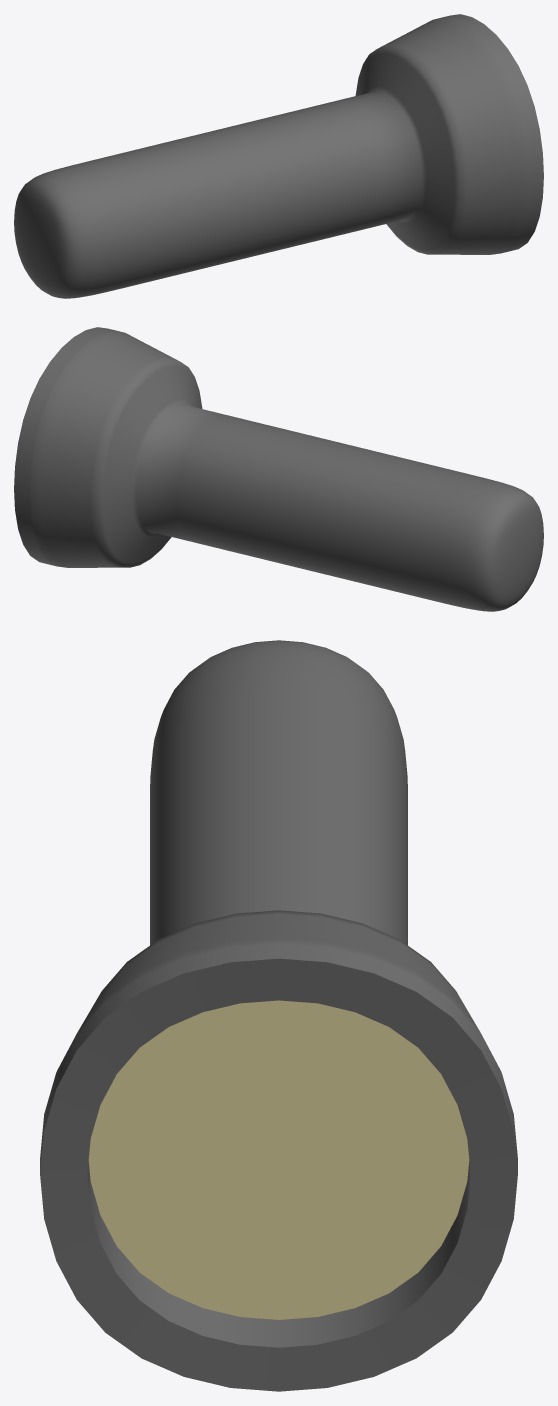
The model's file is Flashlight.fbx.
3 views of the same model, one above another, from view 1: azimuth 30°, elevation 25°; view 2: azimuth 150°, elevation 25°; view 3: azimuth 270°, elevation 25° (orthographic). The views are drawn at different scales.
Parts seen in each view (by area): view 1: Cube; view 2: Cube; view 3: Cube.
Boxes of the visible parts, x1,y1,x2,y2 form: Cube: (14, 14, 543, 298); Cube: (14, 327, 543, 611); Cube: (40, 640, 517, 1391).
Bounding box in the file's own units: 738 × 339 × 339.
